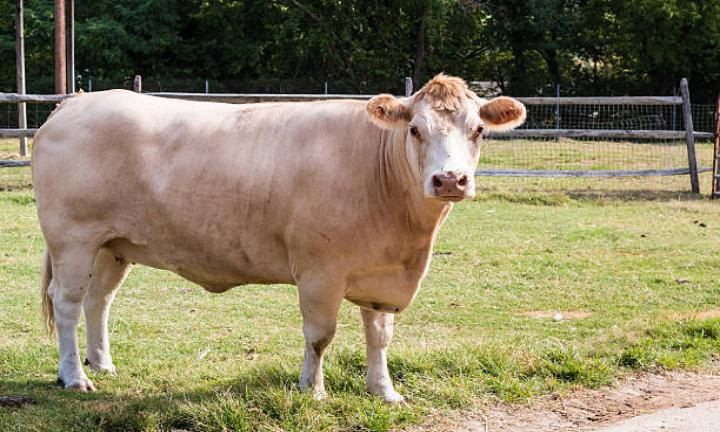Charolais: (32, 75, 525, 399)
